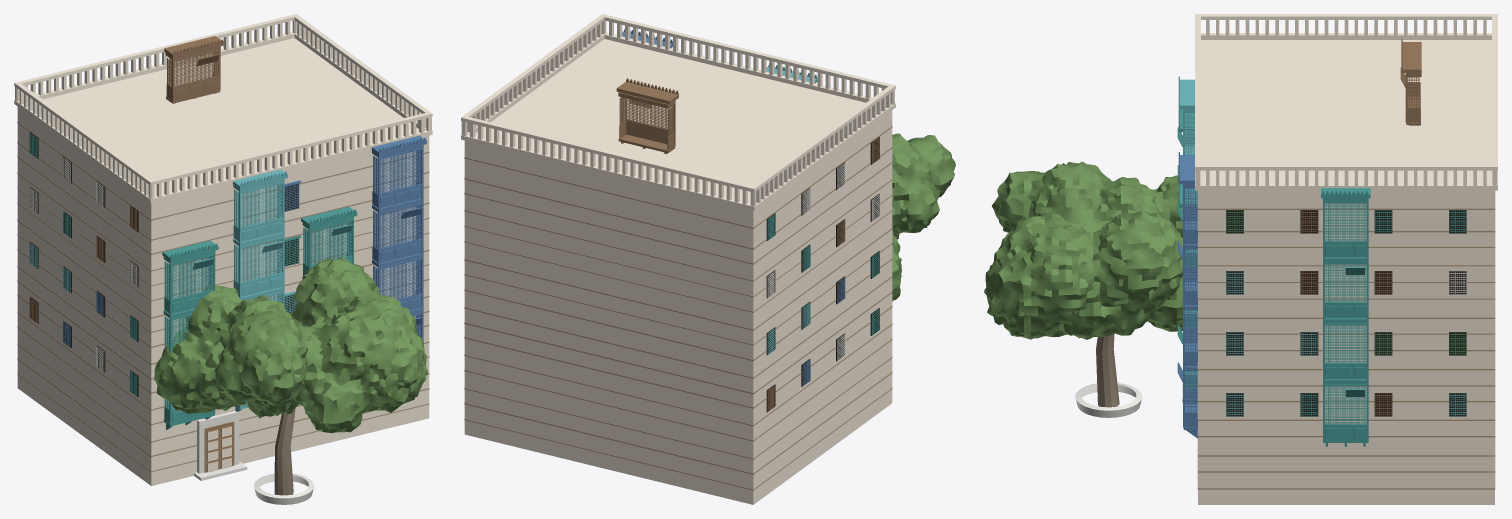
Rendered from SM_NassifHouse.fbx.
The picture shows the model from 3 angles, left to right: view 1: azimuth 30°, elevation 25°; view 2: azimuth 150°, elevation 25°; view 3: azimuth 270°, elevation 25°; orthographic projection. The views are drawn at different scales.
Parts seen in each view (by area): view 1: SM_NassifHouse; view 2: SM_NassifHouse; view 3: SM_NassifHouse.
Boxes of the visible parts, x1,y1,x2,y2 form: SM_NassifHouse: (14,14,432,504); SM_NassifHouse: (461,14,955,504); SM_NassifHouse: (984,14,1497,504).
Size of the model in its own units: 1916 by 2109 by 2595.
